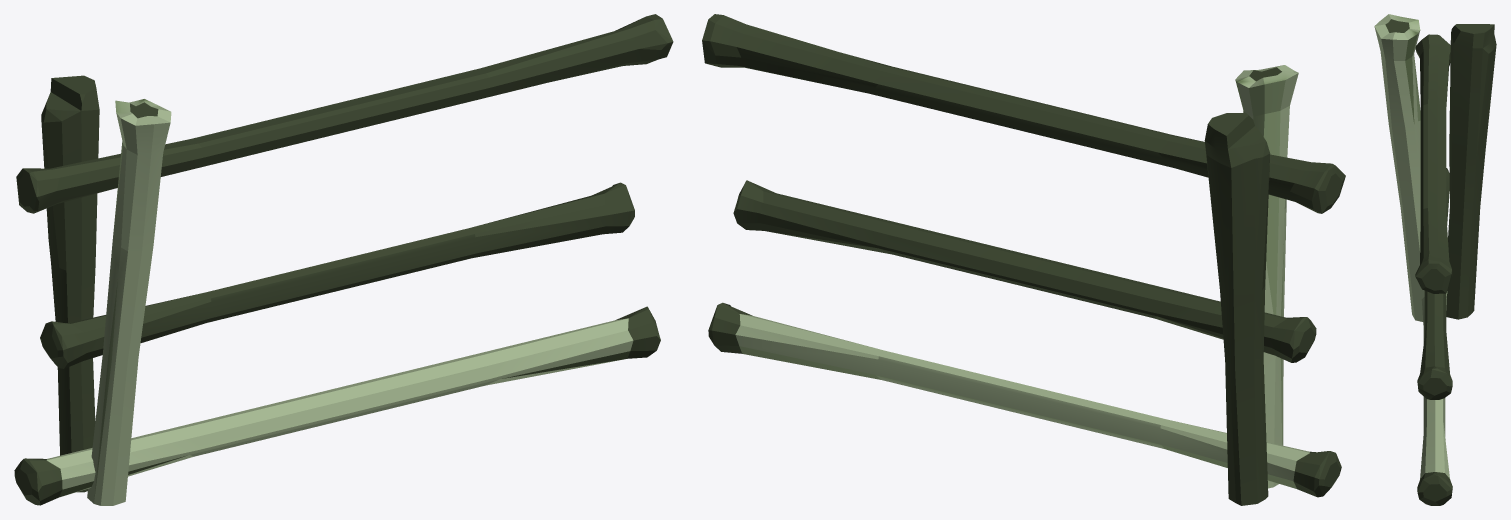
Rendered from EA_Fence_02e.glb.
The picture shows the model from 3 angles, left to right: view 1: azimuth 30°, elevation 25°; view 2: azimuth 150°, elevation 25°; view 3: azimuth 270°, elevation 25°; orthographic projection. The views are drawn at different scales.
Visible parts, largest first — view 1: EA_Fence_02e; view 2: EA_Fence_02e; view 3: EA_Fence_02e.
Part boxes in pixels (box(x1,y1,x2,y2)): EA_Fence_02e: box(14, 14, 673, 505); EA_Fence_02e: box(702, 14, 1345, 505); EA_Fence_02e: box(1374, 14, 1496, 505).
Bounding box in the file's own units: 1.49 × 0.8956 × 0.3322.
1 material, 1 textured.
